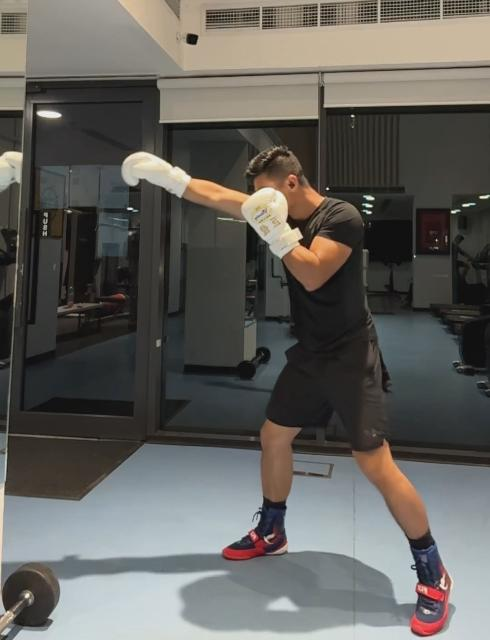punch: (122, 146, 453, 636)
